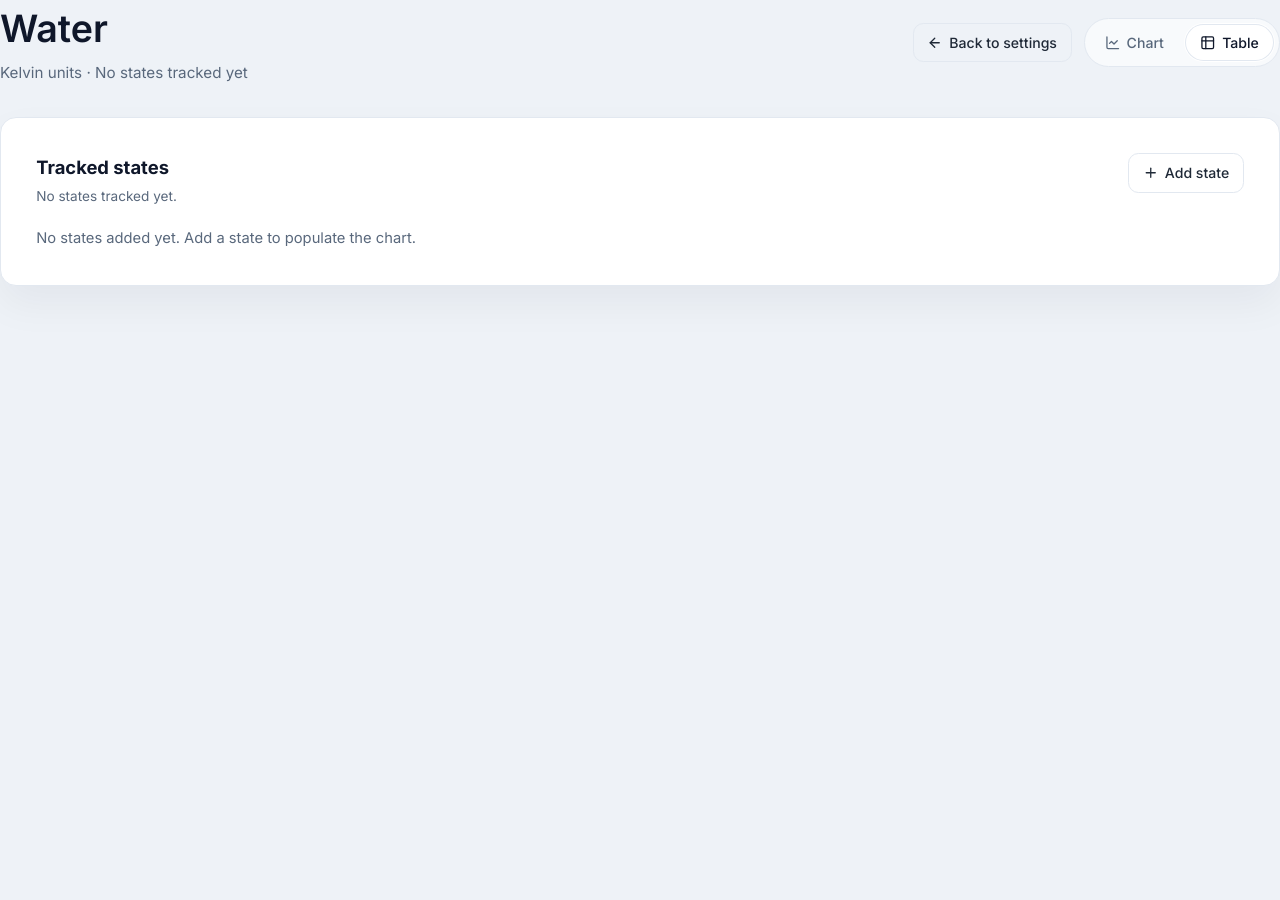
it: WorkspaceView › add state › closes the modal when Cancel is clicked
The width and height of the screenshot is (1280, 900).
Click the button "Add state": [1186, 173] box [1128, 153, 1244, 193]
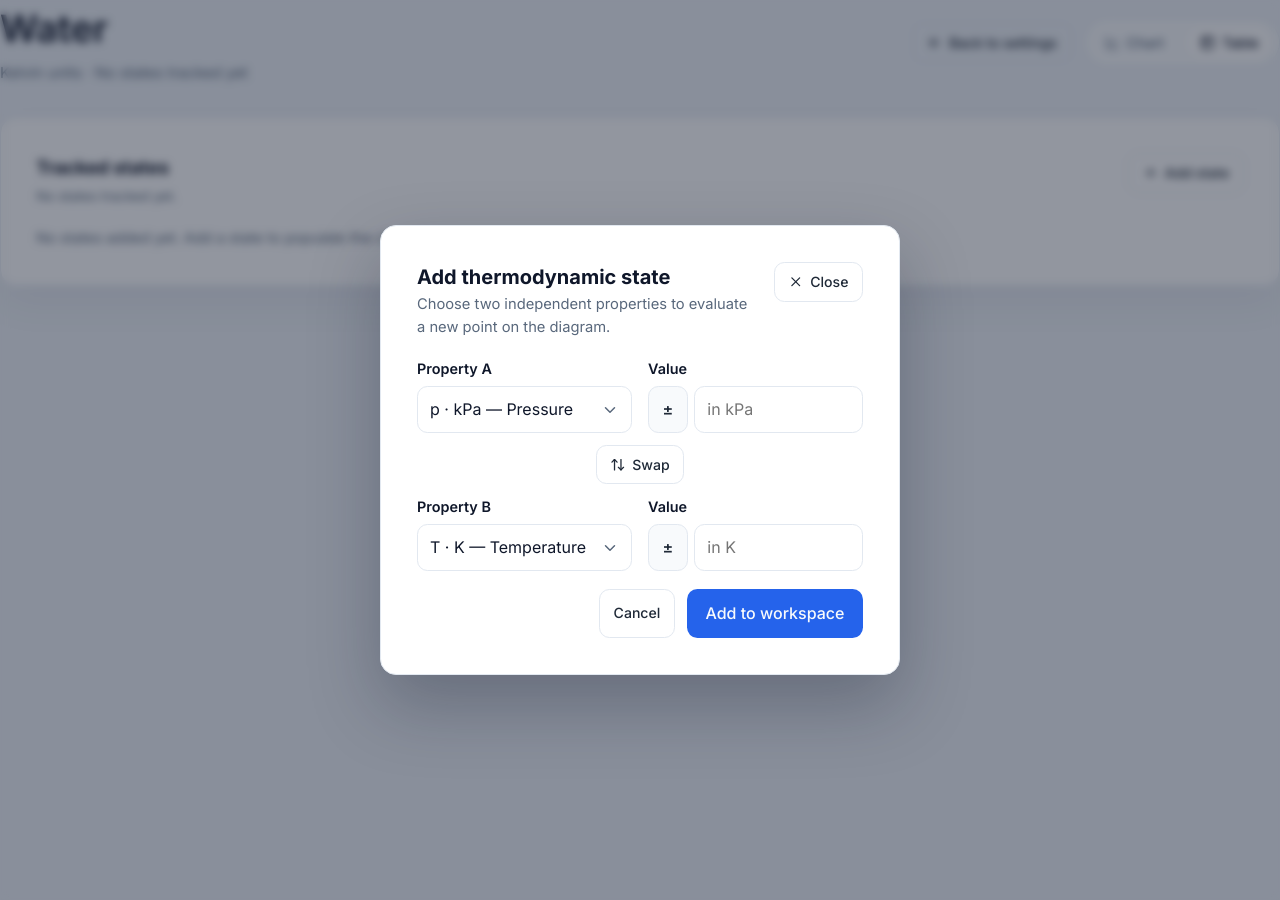
Expected: the dropdown labelled "Property A" is shown, [417, 386, 632, 433]
Click the button "Cancel": [637, 613] box [599, 589, 675, 638]
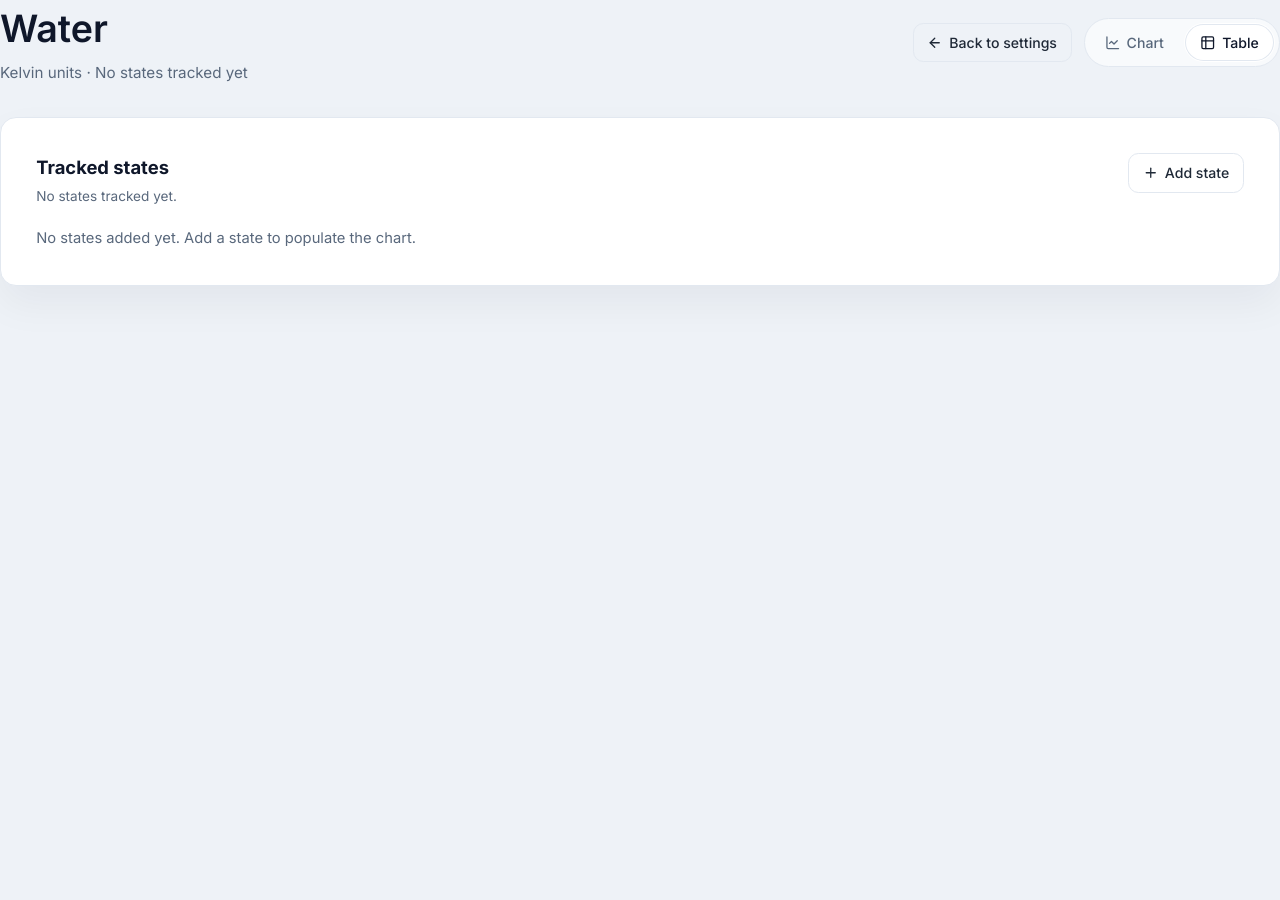
Expected: the heading "Add thermodynamic state" is gone
